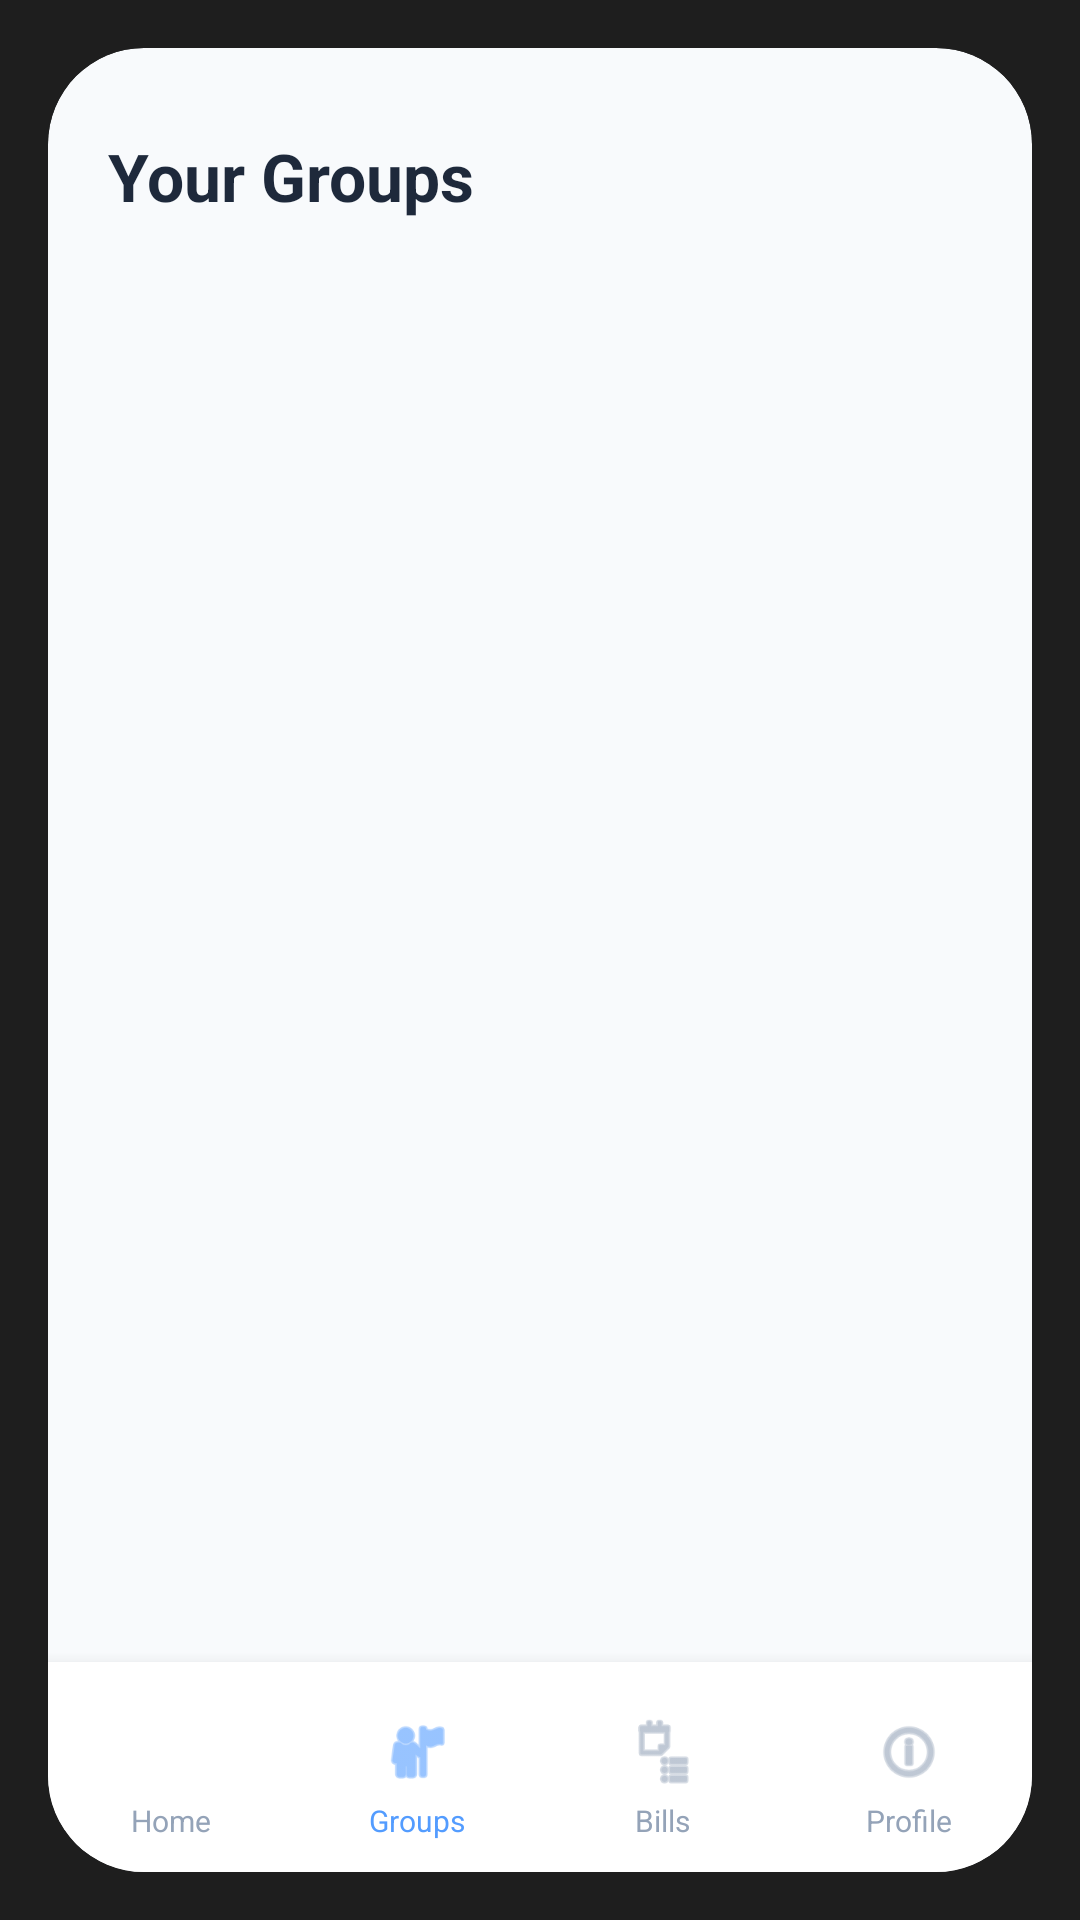

Locate icon controls on the screen. Image size 1080 x 1920, boxes as [x1, y1, x2, y2].
agenda: [638, 1720, 688, 1783]
info details: [883, 1726, 935, 1778]
